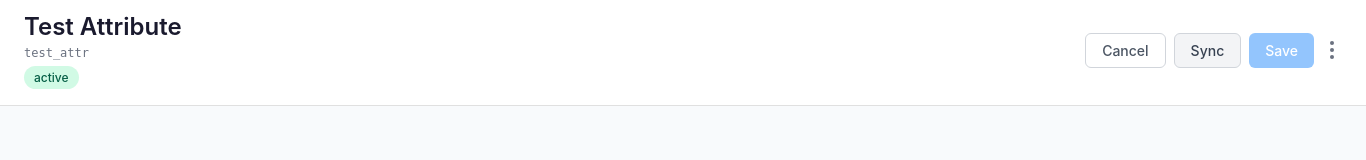
AttributeHeader › Kebab Menu › shows Deprecate option for active attributes
Click the button with test id "kebab-button".
click(1332, 50)  # box [1322,33,1342,67]
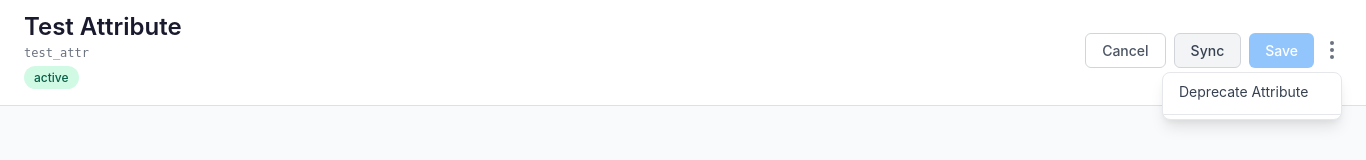
Check: the menu item with test id "menu-deprecate" is shown, box [1163,73,1341,110]
